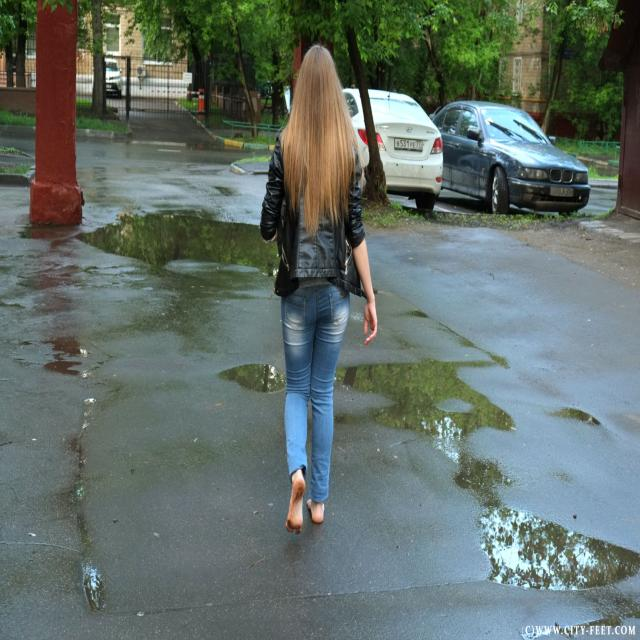Barefoots: (286, 476, 306, 534), (306, 498, 324, 524)
